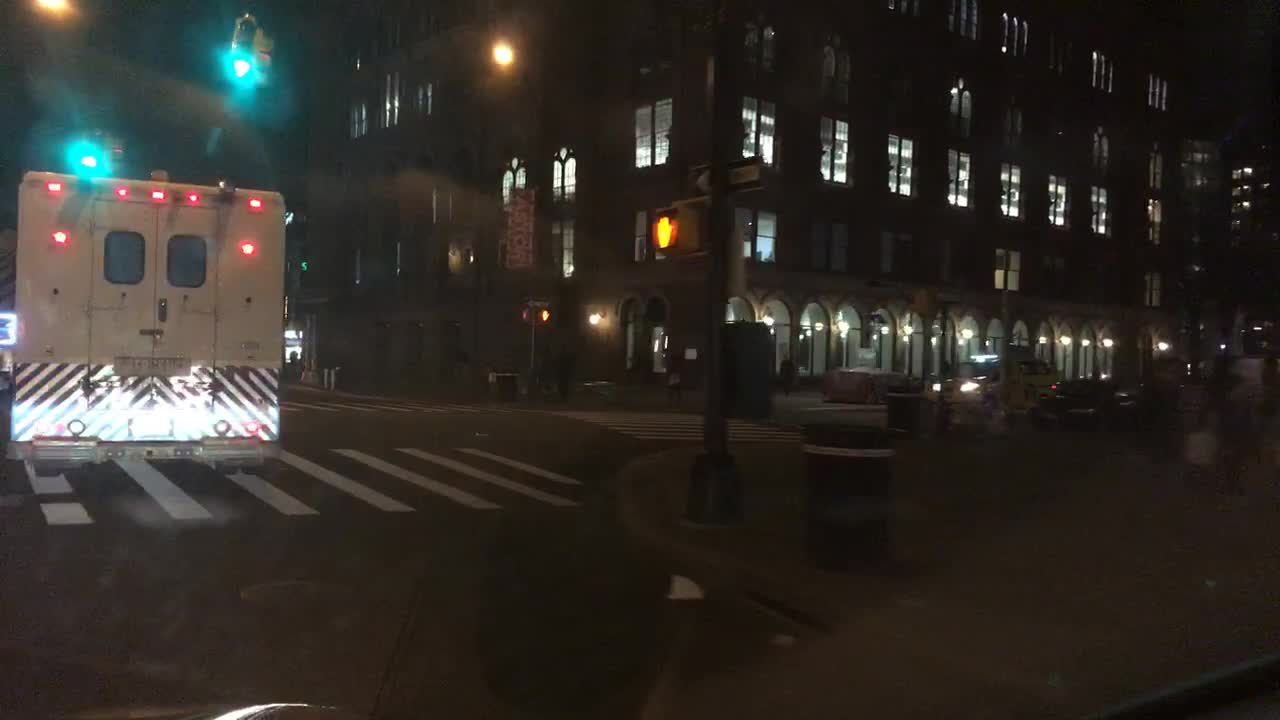car: (1031, 376, 1147, 427), (923, 359, 1003, 403), (984, 358, 1065, 396)
person: (554, 339, 576, 400), (663, 351, 685, 405), (777, 353, 799, 395)
traffic light: (646, 207, 701, 258), (249, 32, 269, 89), (107, 132, 126, 177), (232, 23, 247, 77), (77, 127, 97, 167), (535, 303, 552, 326), (519, 304, 535, 323)
traffic sign: (683, 157, 768, 194)
truck: (1, 167, 291, 482)
